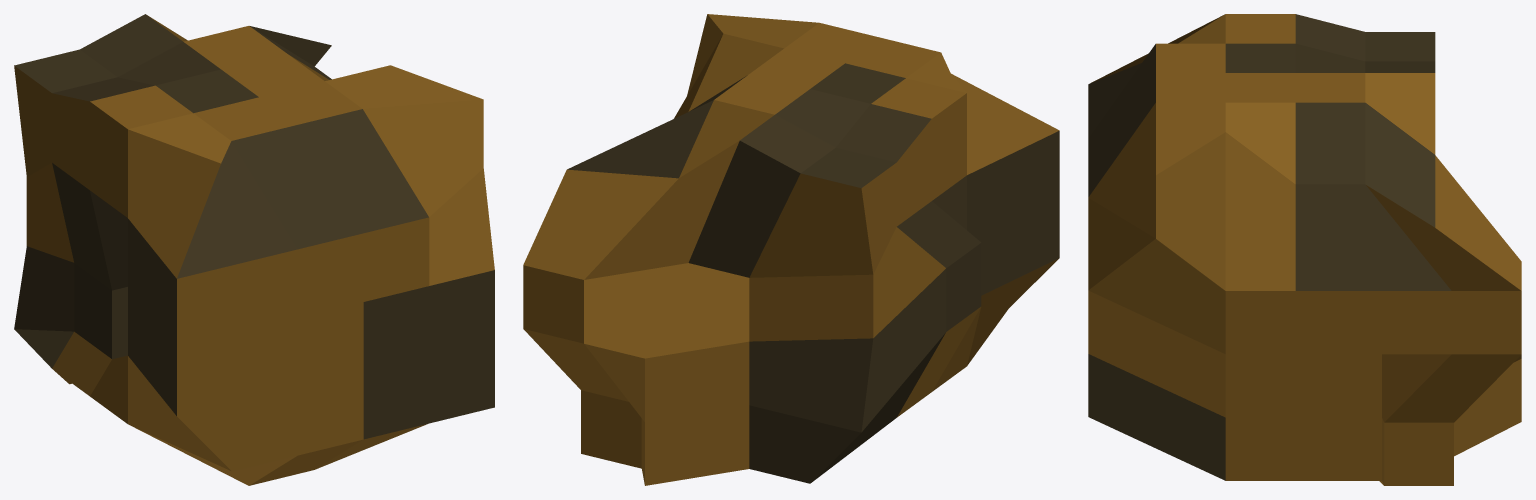
The model's file is Rock01.fbx.
The picture shows the model from 3 angles, left to right: view 1: azimuth 30°, elevation 25°; view 2: azimuth 150°, elevation 25°; view 3: azimuth 270°, elevation 25°; orthographic projection. The views are drawn at different scales.
Parts seen in each view (by area): view 1: Rock 01; view 2: Rock 01; view 3: Rock 01.
Boxes of the visible parts, x1,y1,x2,y2 form: Rock 01: (14, 14, 494, 485); Rock 01: (523, 14, 1059, 485); Rock 01: (1088, 14, 1521, 485).
Size of the model in its own units: 786 by 844 by 932.
